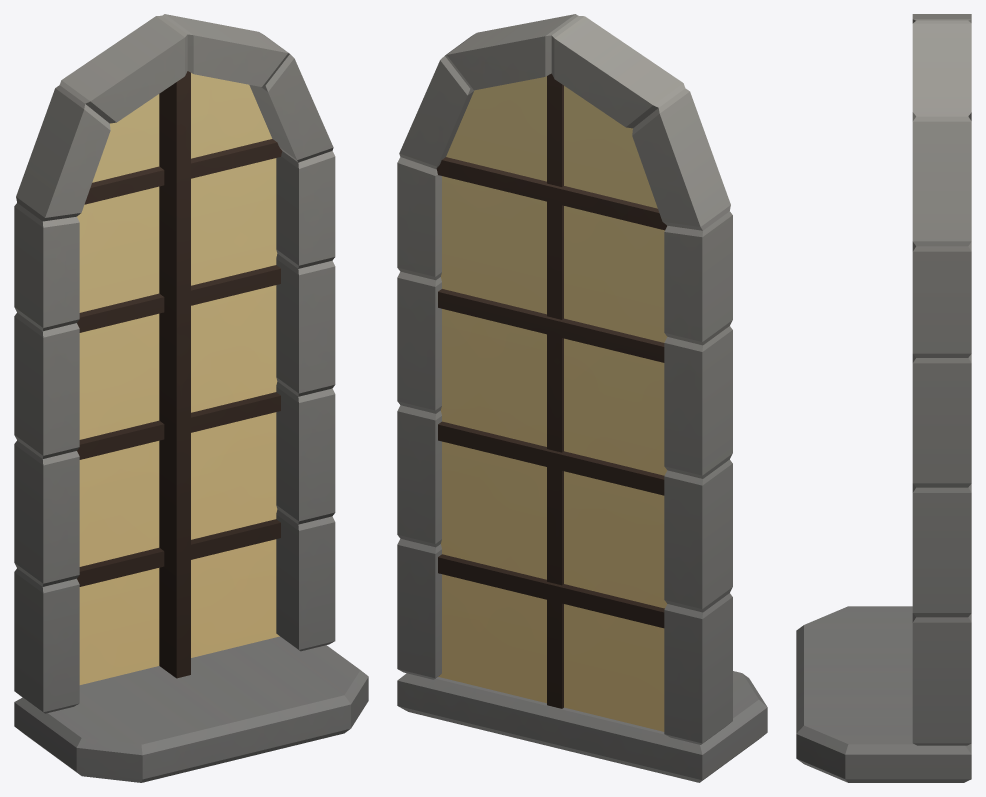
Rendered from School_window.fbx.
3 views of the same model, side by side, from view 1: azimuth 30°, elevation 25°; view 2: azimuth 150°, elevation 25°; view 3: azimuth 270°, elevation 25° (orthographic). The views are drawn at different scales.
Visible parts, largest first — view 1: Cube.122; view 2: Cube.122; view 3: Cube.122.
Part boxes in pixels (x1,y1,x2,y2): Cube.122: (14,14,368,782); Cube.122: (397,14,767,782); Cube.122: (796,14,971,782).
Bounding box in the file's own units: 2 × 4.47 × 1.03.
